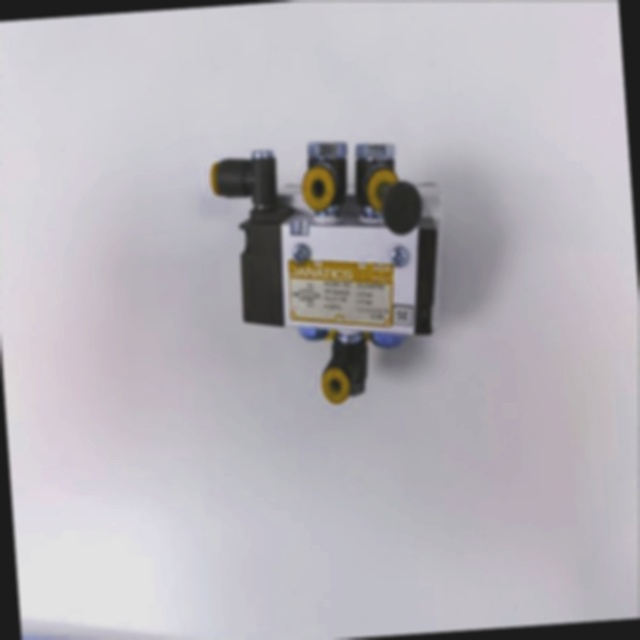5by2 DCV: (181, 102, 474, 432)
